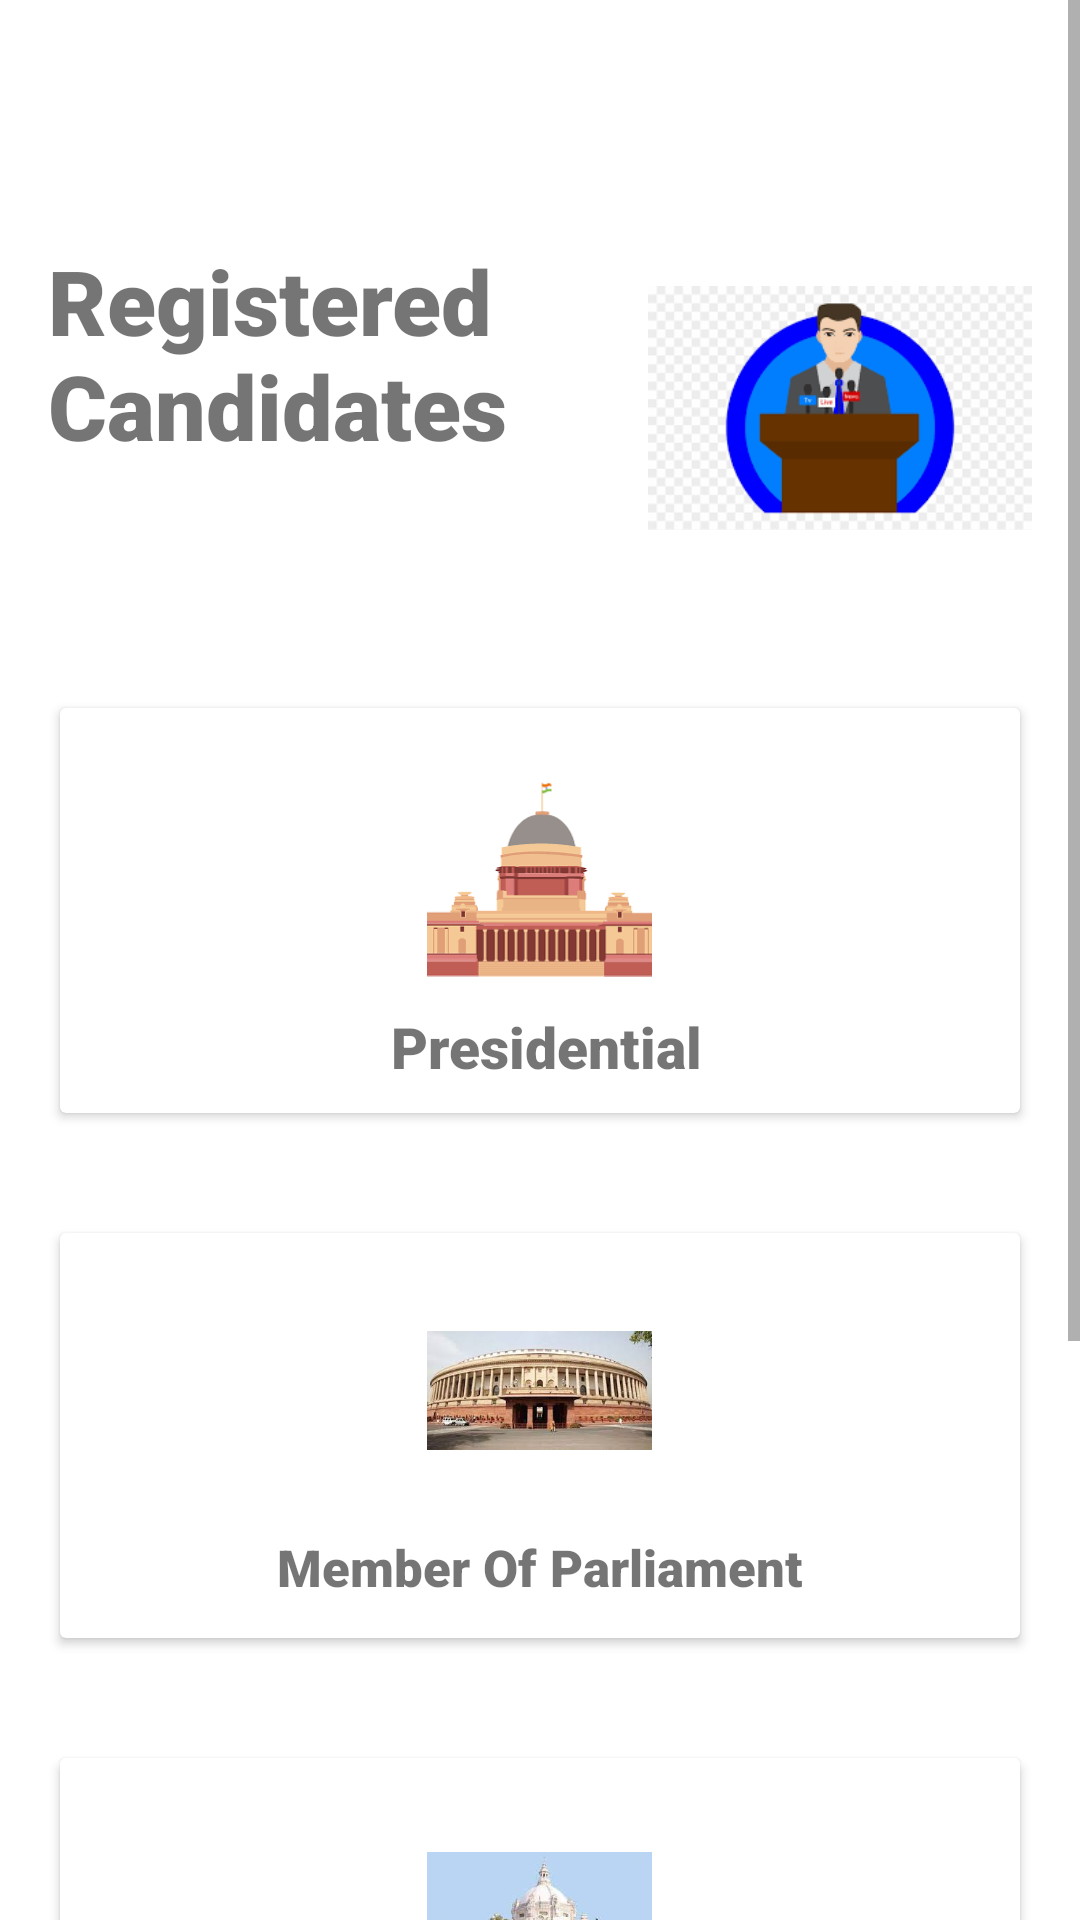

Named icons in this screenshot (1080px x 1920px) and their centers, [x,y]:
candidatereg: [840,408]
